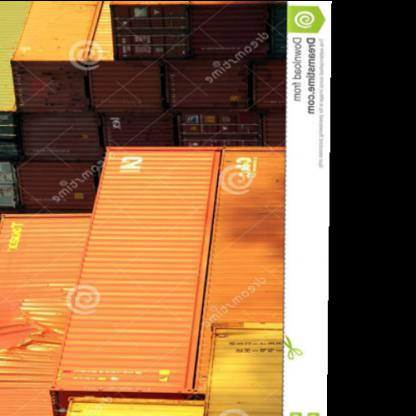Damage: (1, 300, 60, 362)
